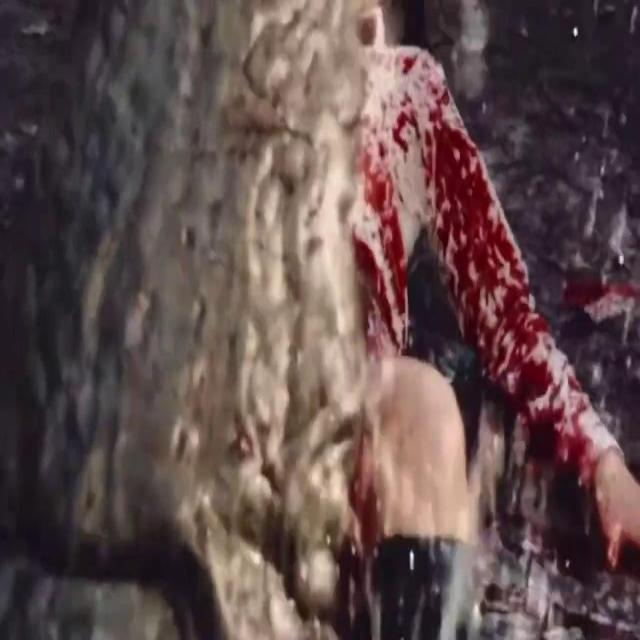flood: (351, 72, 600, 508)
